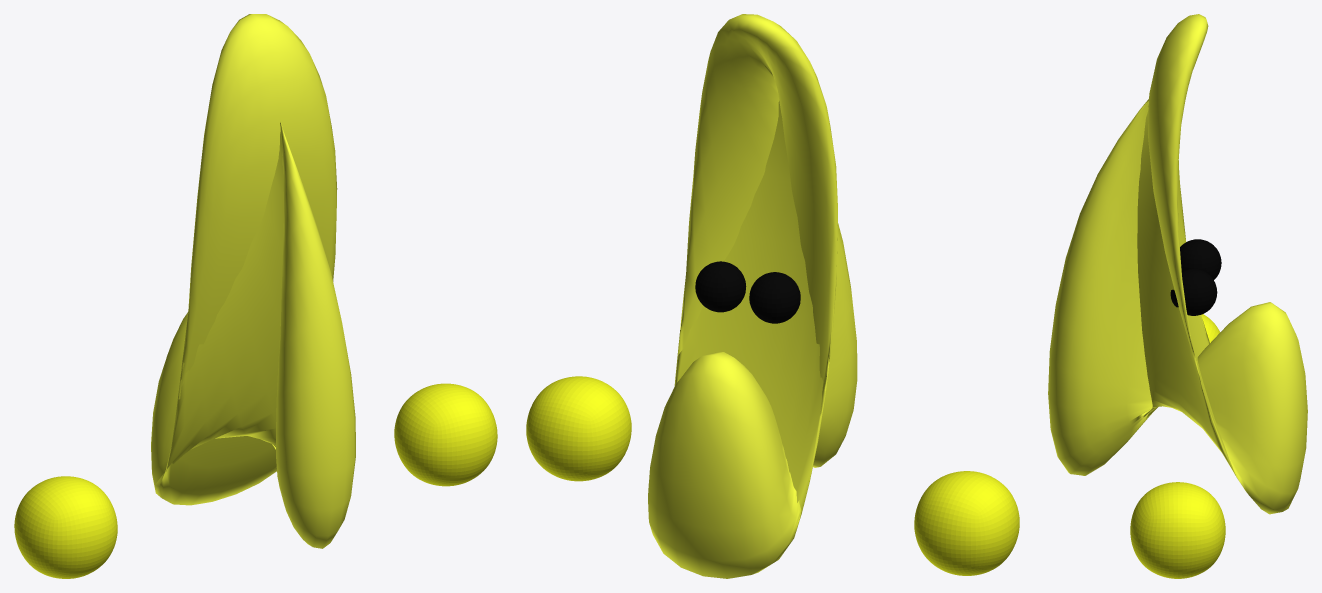
The model's file is Enemy.glb.
3 views of the same model, side by side, from view 1: azimuth 30°, elevation 25°; view 2: azimuth 150°, elevation 25°; view 3: azimuth 270°, elevation 25° (orthographic). The views are drawn at different scales.
Parts seen in each view (by area): view 1: Cube, Cube.002, Cube.001; view 2: Cube, Cube.001, Cube.002, Sphere.001, Sphere; view 3: Cube, Cube.001, Sphere, Sphere.001.
Boxes of the visible parts, x1,y1,x2,y2 form: Cube: [151, 14, 355, 548]; Cube.002: [14, 476, 117, 578]; Cube.001: [394, 383, 497, 486]; Cube: [648, 14, 857, 578]; Cube.001: [526, 376, 631, 481]; Cube.002: [914, 471, 1019, 575]; Sphere.001: [749, 272, 800, 323]; Sphere: [695, 261, 746, 312]; Cube: [1048, 14, 1307, 514]; Cube.001: [1130, 482, 1225, 578]; Sphere: [1170, 269, 1217, 315]; Sphere.001: [1180, 239, 1221, 279].
Bounding box in the file's own units: 3.3 × 3.49 × 1.69.
